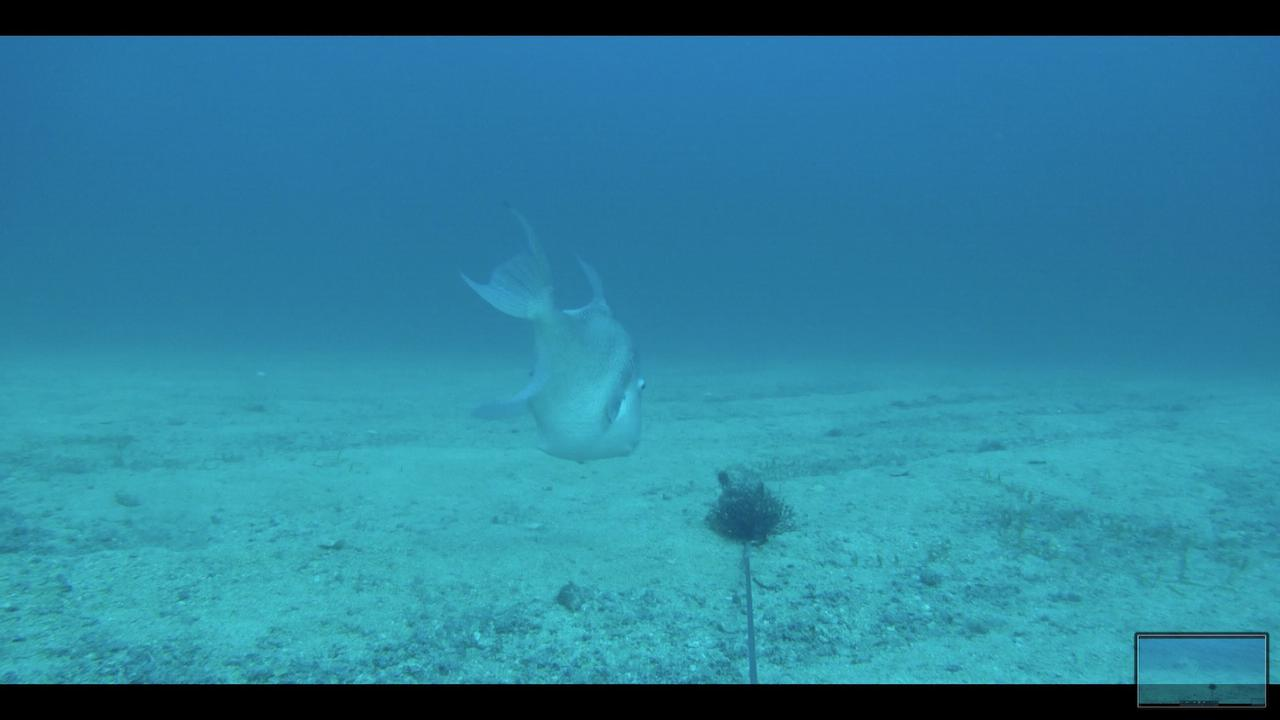balistes: (447, 211, 650, 470)
